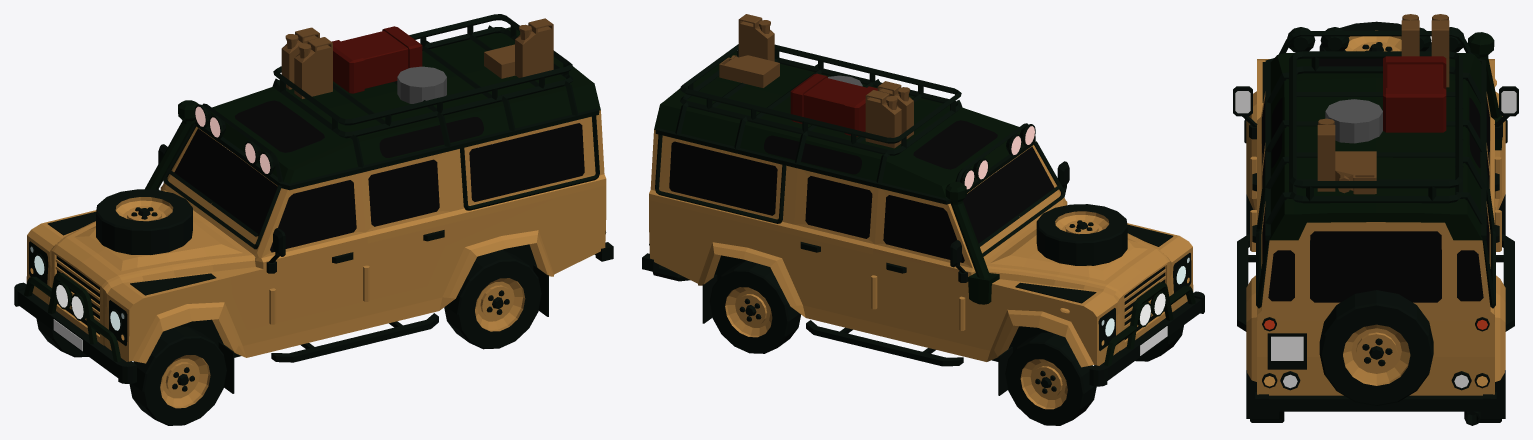
File: Landyroamer.glb
The picture shows the model from 3 angles, left to right: view 1: azimuth 30°, elevation 25°; view 2: azimuth 150°, elevation 25°; view 3: azimuth 270°, elevation 25°; orthographic projection. The views are drawn at different scales.
Parts seen in each view (by area): view 1: landy; view 2: landy; view 3: landy.
Part boxes in pixels (x1,y1,x2,y2): landy: [14, 14, 613, 425]; landy: [642, 14, 1204, 425]; landy: [1233, 14, 1518, 425].
Size of the model in its own units: 3.88 by 2.05 by 1.61.
3 materials, 2 textured.
